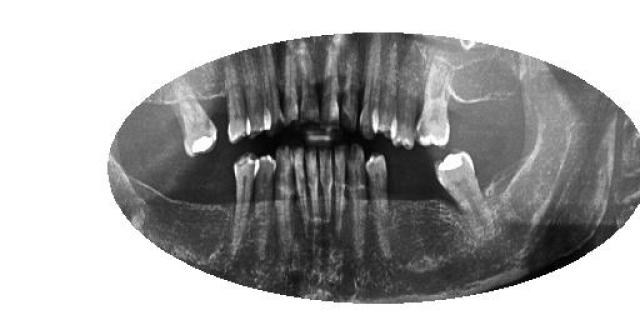Fillings: (434, 148, 491, 228), (171, 85, 220, 159)
